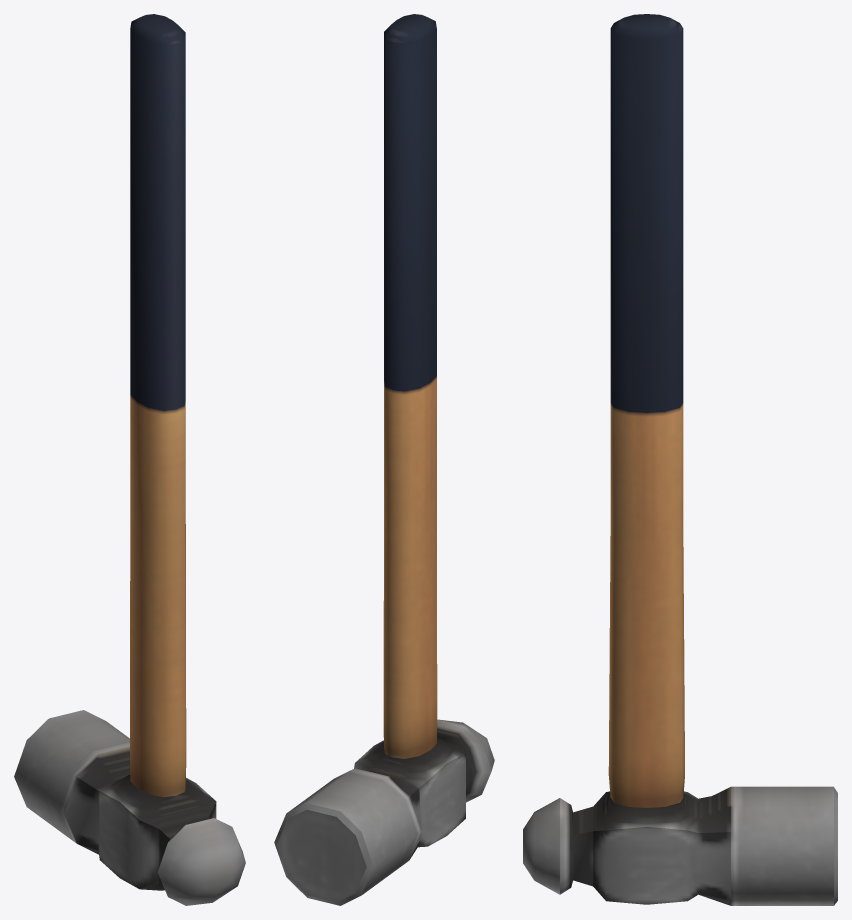
Rendered from BallPeenHammer.fbx.
The picture shows the model from 3 angles, left to right: view 1: azimuth 30°, elevation 25°; view 2: azimuth 150°, elevation 25°; view 3: azimuth 270°, elevation 25°; orthographic projection. The views are drawn at different scales.
Parts seen in each view (by area): view 1: BallPeenHammer.X_BallPeenHammer; view 2: BallPeenHammer.X_BallPeenHammer; view 3: BallPeenHammer.X_BallPeenHammer.
Part boxes in pixels (left/top/right/bottom): BallPeenHammer.X_BallPeenHammer: left=14, top=14, right=245, bottom=905; BallPeenHammer.X_BallPeenHammer: left=274, top=14, right=494, bottom=905; BallPeenHammer.X_BallPeenHammer: left=523, top=14, right=837, bottom=905.
Bounding box in the file's own units: 0.0332 × 0.2598 × 0.0846.
